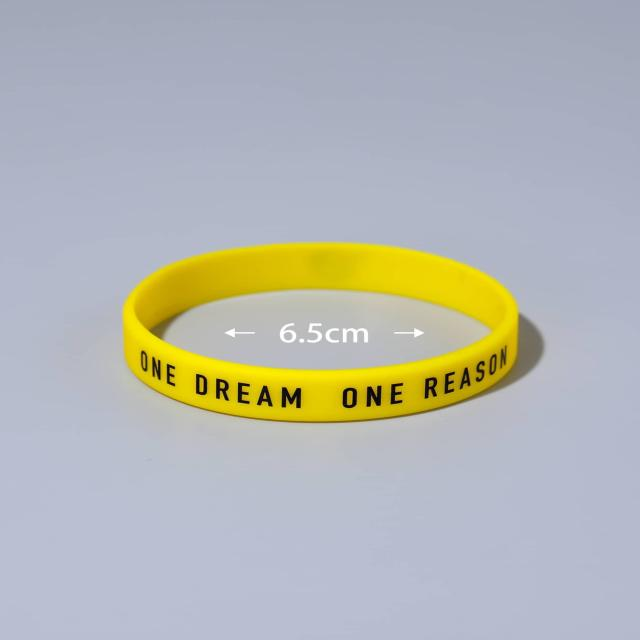bracelet: (66, 194, 634, 515)
